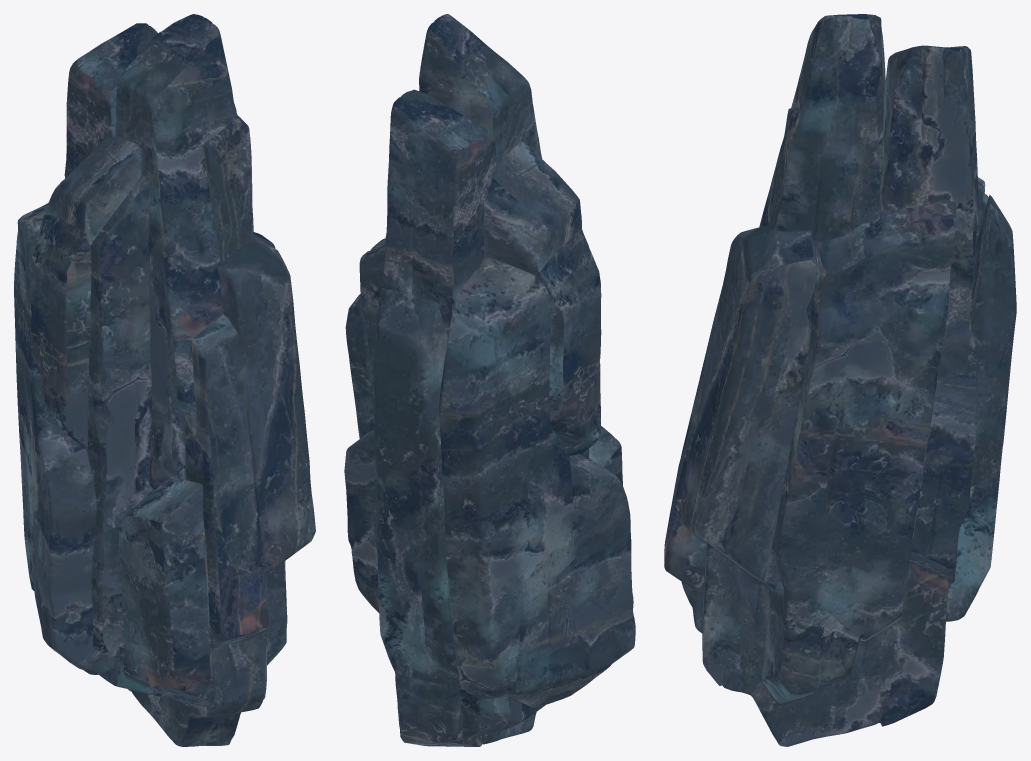
The picture shows the model from 3 angles, left to right: view 1: azimuth 30°, elevation 25°; view 2: azimuth 150°, elevation 25°; view 3: azimuth 270°, elevation 25°; orthographic projection. The views are drawn at different scales.
Visible parts, largest first — view 1: SM_Cave_Rock_Wall_04_LOD0; view 2: SM_Cave_Rock_Wall_04_LOD0; view 3: SM_Cave_Rock_Wall_04_LOD0.
Part boxes in pixels (x1,y1,x2,y2): SM_Cave_Rock_Wall_04_LOD0: [14, 14, 315, 746]; SM_Cave_Rock_Wall_04_LOD0: [344, 14, 635, 746]; SM_Cave_Rock_Wall_04_LOD0: [664, 14, 1016, 746].
Bounding box in the file's own units: 4.38 × 12.43 × 5.39.
Materials: 1 (1 with a texture image).
